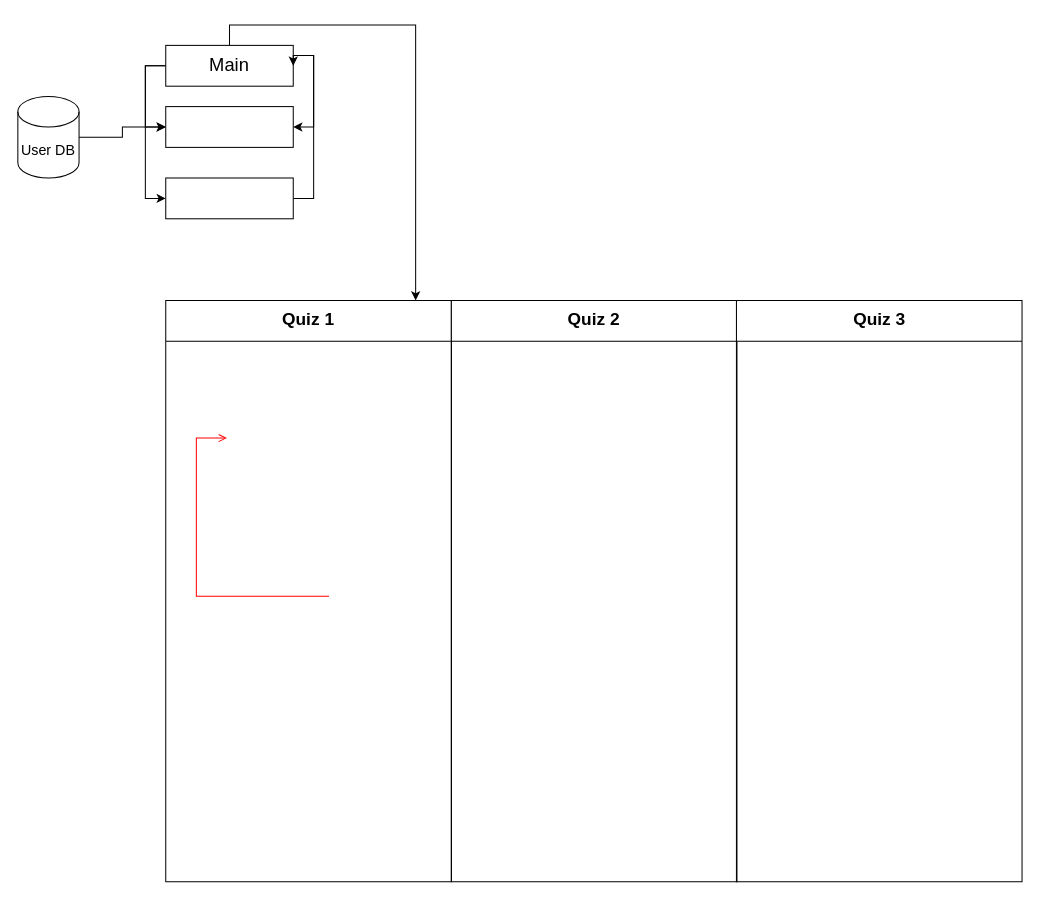
This 1040x900 diagram has some shape labels left out. The shapes that lost their labels are listed below. From the top down, each one's centre as x and y in pixels, then its label:
(229,126): Login
(229,198): Select Questions
